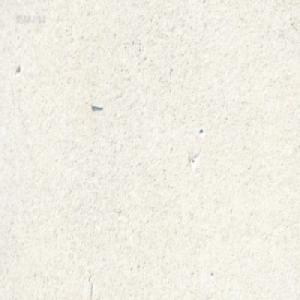Nail: (90, 101, 103, 109)
